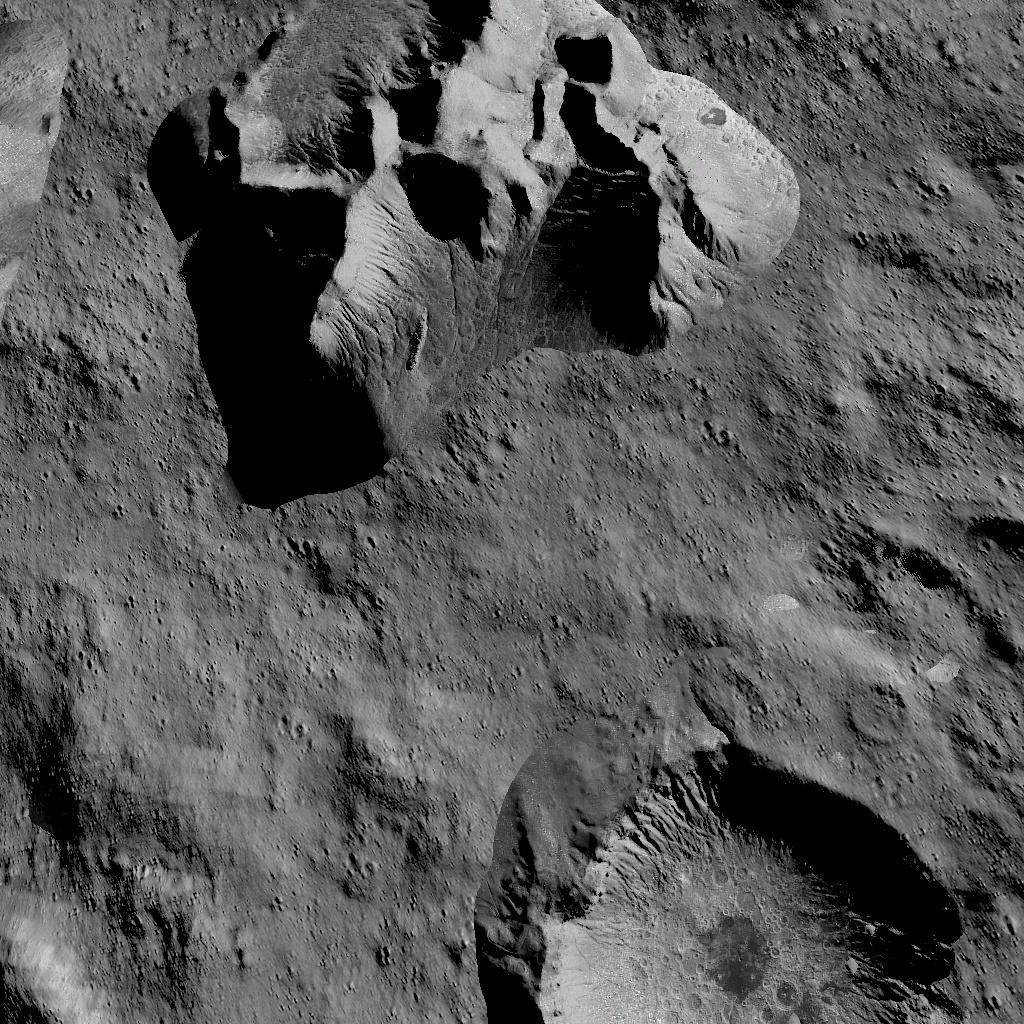Boulders: (140, 0, 799, 502), (0, 9, 75, 396)
Crater: (502, 740, 986, 1024)
Plan surface: (220, 512, 918, 724), (200, 748, 470, 1024)
